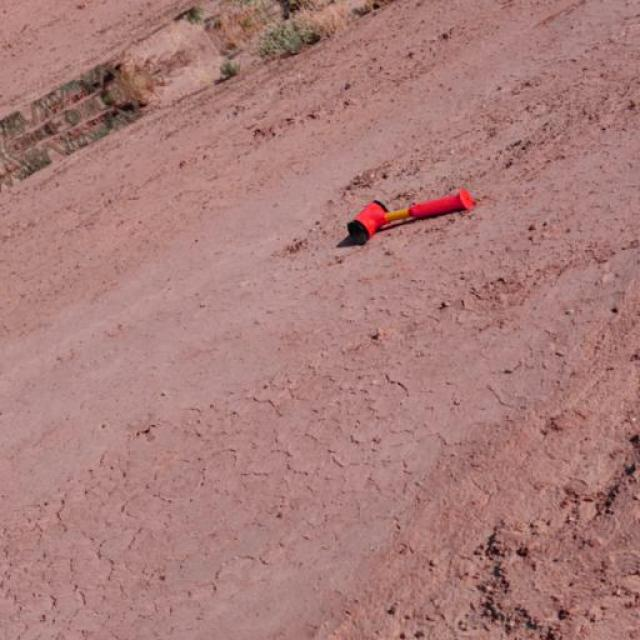mallet: (347, 186, 478, 245)
